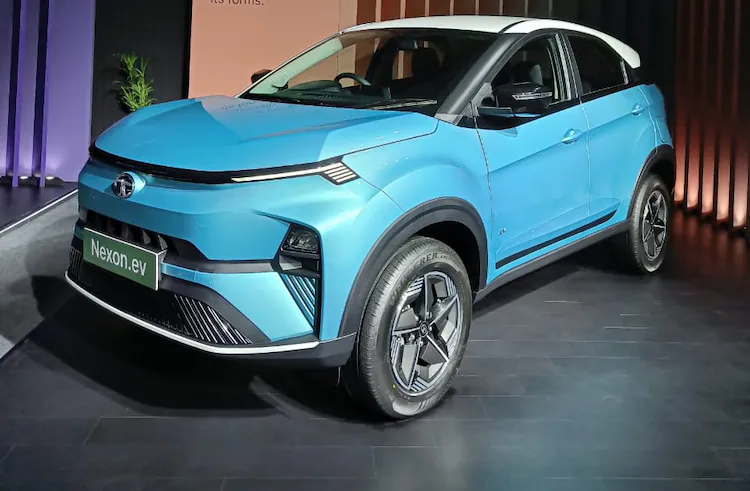Tata Nexon: (65, 11, 681, 423)
